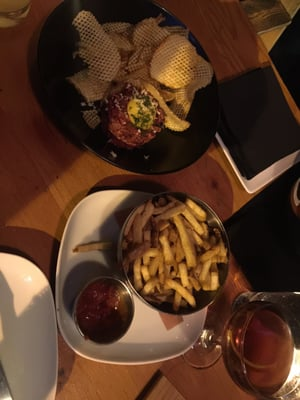pizza: (222, 291, 300, 400), (0, 0, 32, 29)
soup: (149, 33, 213, 122)
